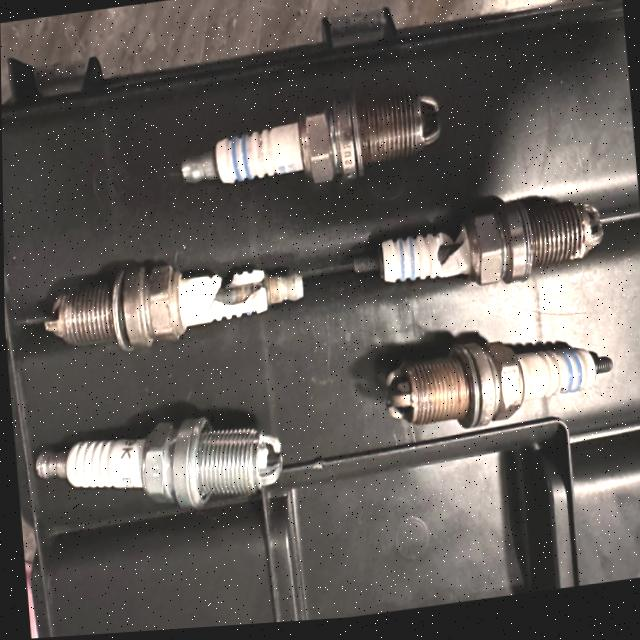damaged_spark-plug: (345, 195, 608, 309), (35, 251, 298, 358)
spark-plug: (26, 399, 291, 542), (166, 79, 444, 206), (381, 328, 616, 444)
